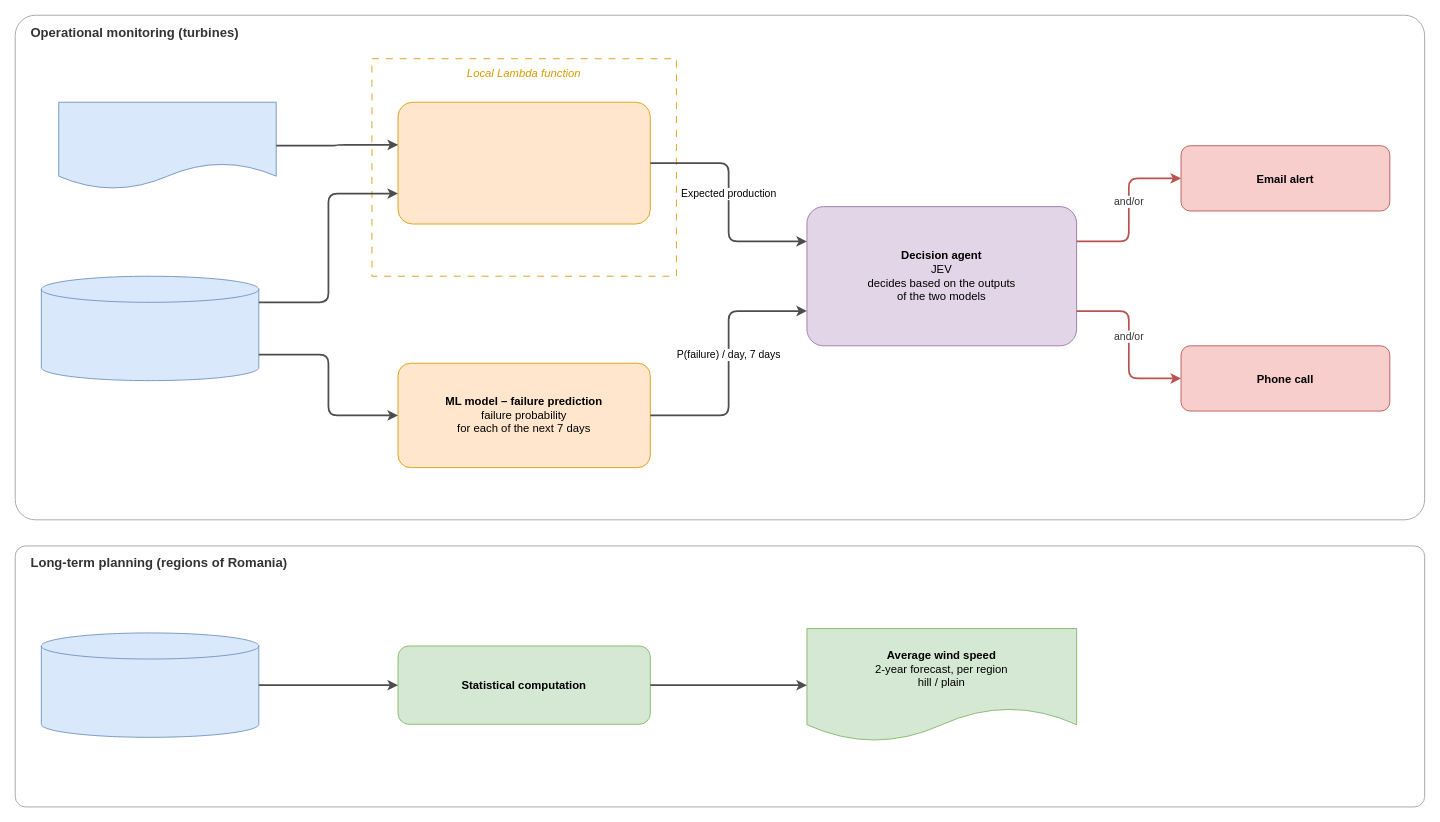
This 1440x822 diagram has some shape labels left out. Here are the shapes that lost their labels. From the top down, the centre of each, then its label:
the point at 167,145: Weather forecast future data (API)
the point at 523,162: ML model input: weather forecast + turbine telemetry
the point at 149,328: Telemetry data wind turbines
the point at 149,684: Wind data regions of Romania
